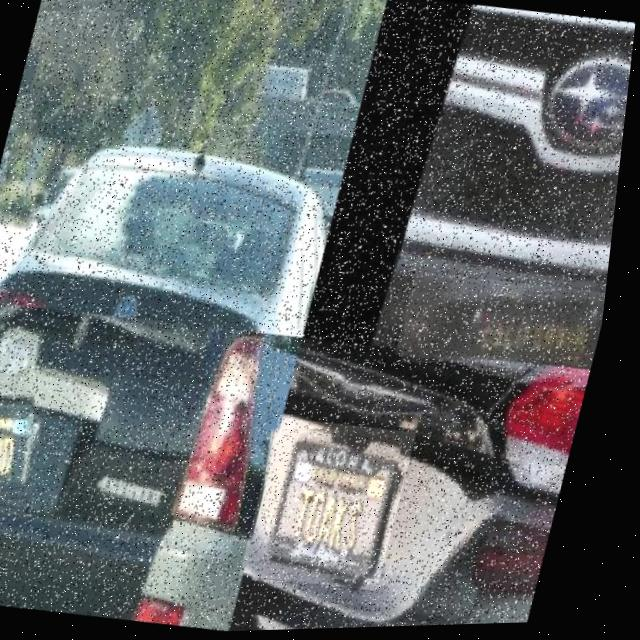LicensePlate: (251, 416, 429, 597), (400, 269, 615, 385), (0, 384, 60, 518)
